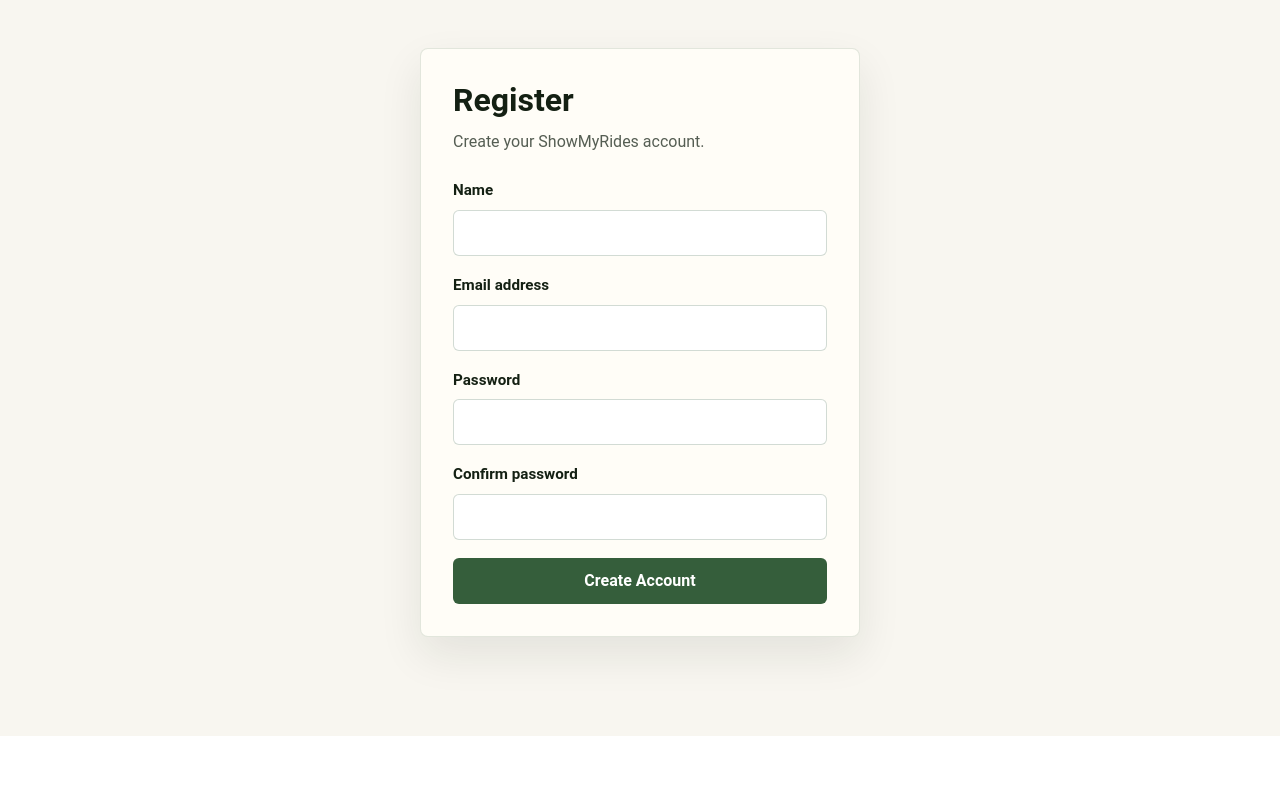
it: RegisterView › validates email format and password confirmation
Type "New Rider" into the field with id "register-name".
click(640, 233); type("New Rider")  # box [453,210,827,256]
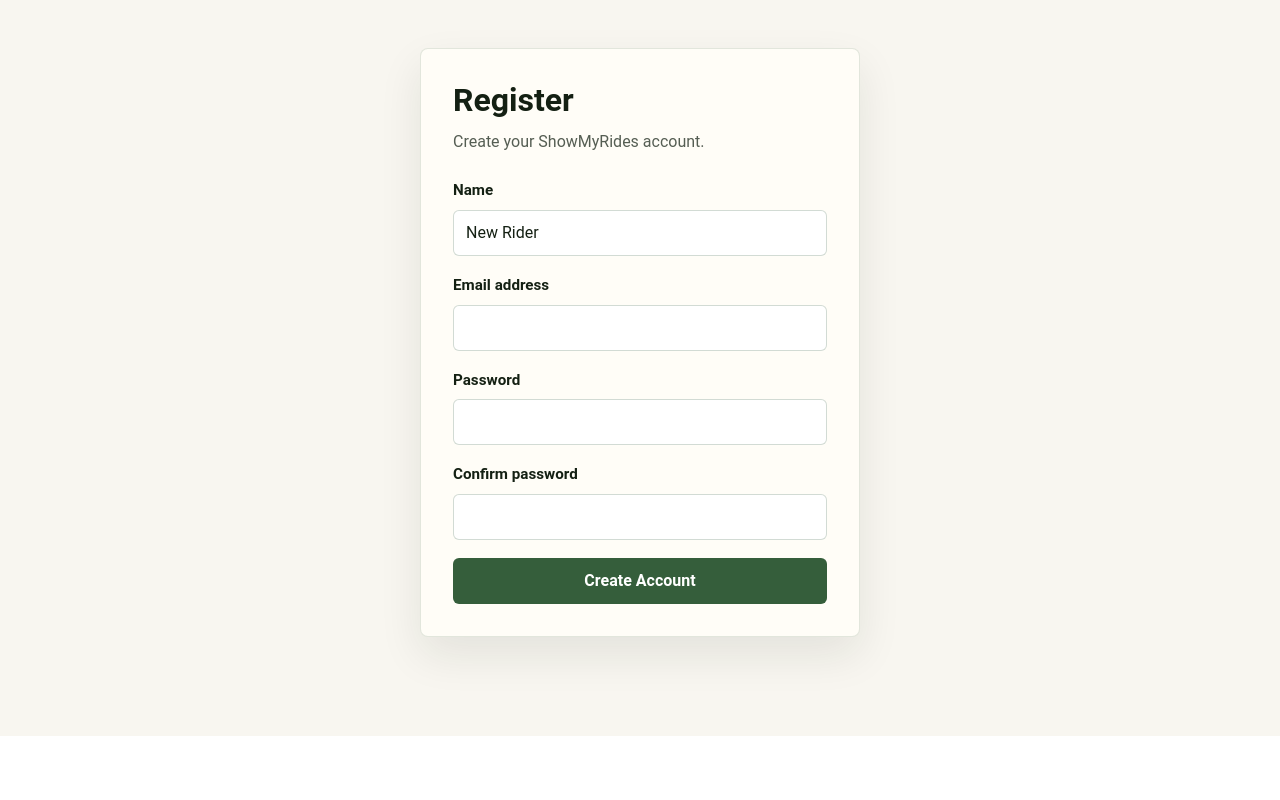
Type "not-an-email" into the field with id "register-email".
click(640, 328); type("not-an-email")  # box [453,305,827,351]
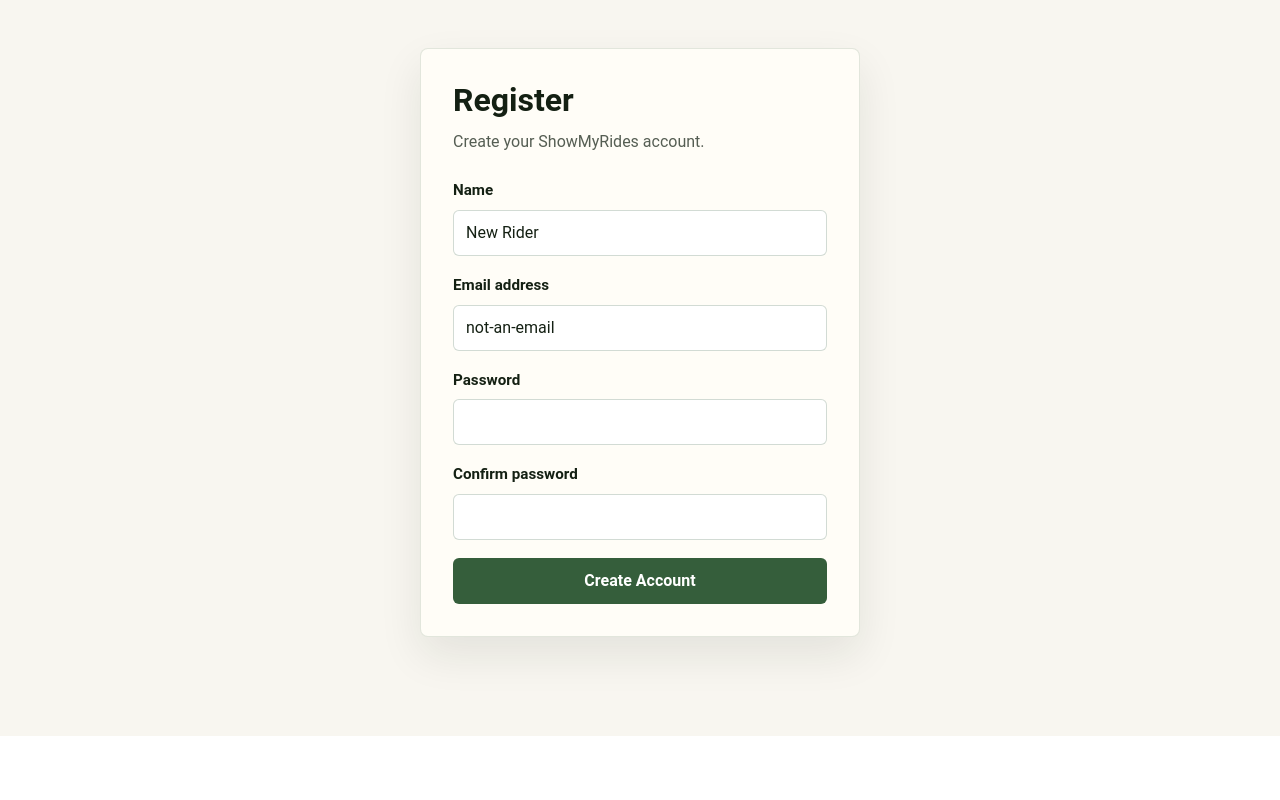
Type "password" into the password field with id "register-password".
click(640, 422); type("password")  # box [453,399,827,445]
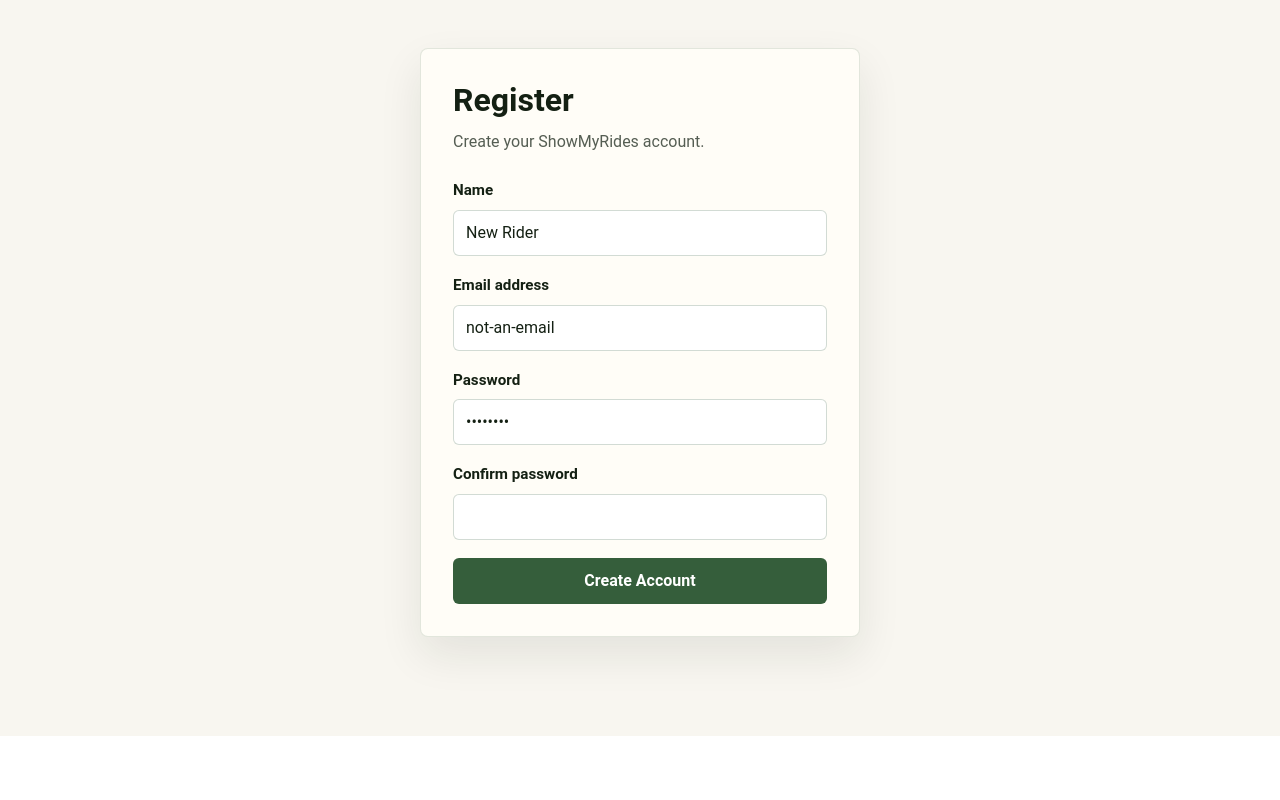
Type "different" into the password field with id "register-password-confirmation".
click(640, 517); type("different")  # box [453,494,827,540]
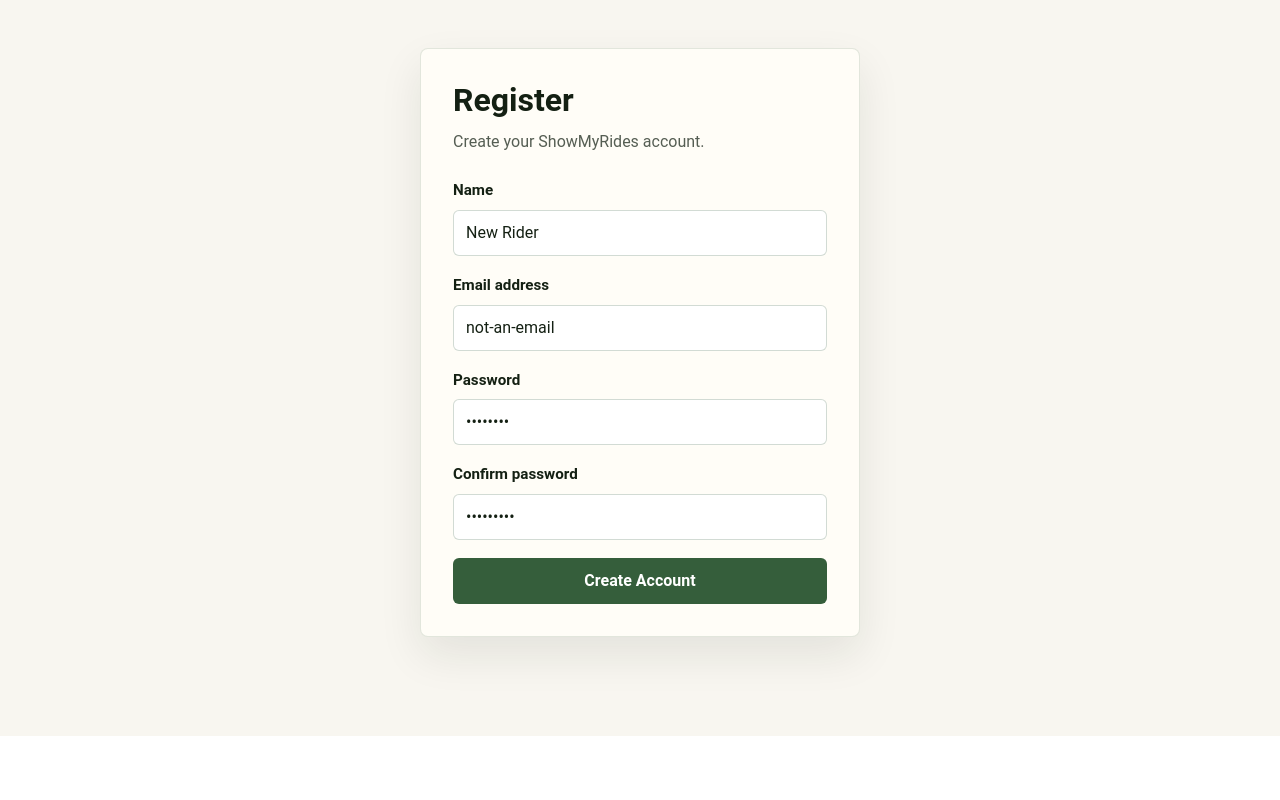
Submit the form, box [453,179,827,604]
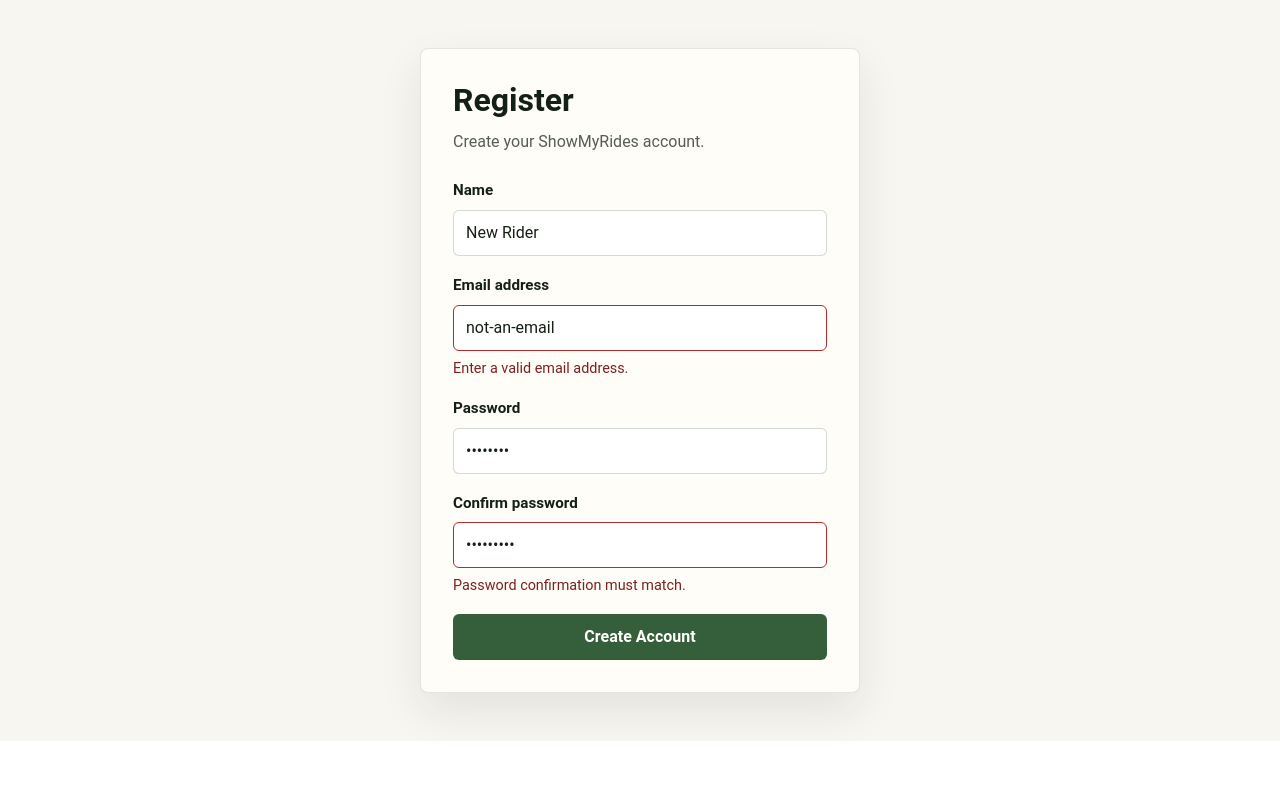
Check: the text "Enter a valid email address." is shown, box [453,360,628,377]
Check: the text "Password confirmation must match." is shown, box [453,577,686,594]
